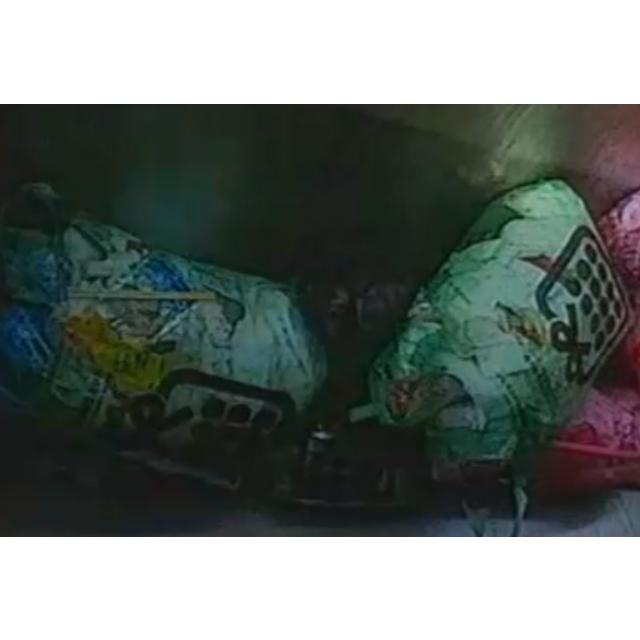general_trashbag: (0, 182, 326, 496), (350, 179, 630, 517)
other_trashbag: (541, 387, 640, 489)
